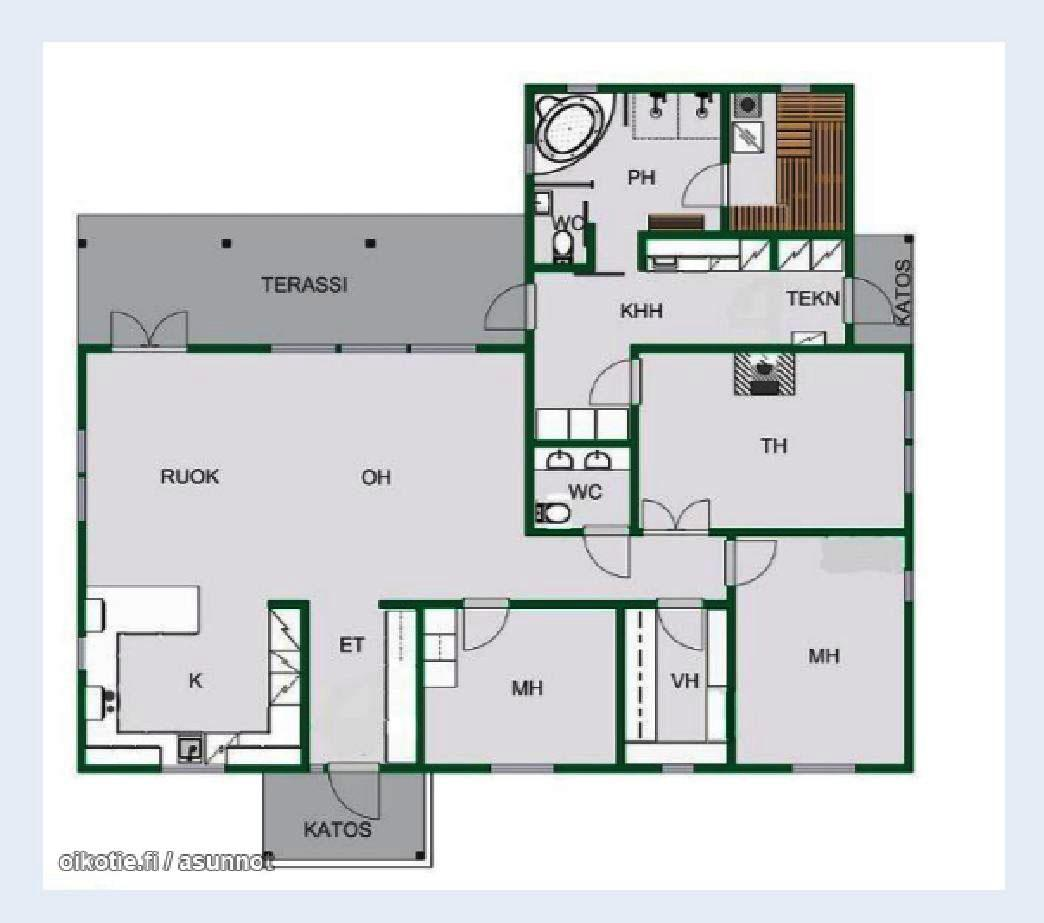bathroom: (534, 89, 718, 178), (533, 447, 630, 530), (535, 182, 586, 266)
door: (324, 763, 383, 823), (580, 525, 638, 584), (480, 281, 540, 336), (840, 276, 896, 330), (589, 356, 645, 410), (656, 597, 708, 653), (460, 597, 508, 653), (721, 542, 779, 588), (679, 159, 733, 208), (147, 307, 196, 358), (106, 306, 150, 357), (672, 501, 716, 541), (638, 497, 672, 539)
perimeter: (74, 83, 918, 772)
window: (481, 759, 563, 779), (405, 339, 482, 360), (335, 338, 413, 358), (899, 437, 923, 499), (785, 759, 862, 778), (154, 761, 232, 778), (70, 424, 92, 480), (261, 342, 342, 357), (901, 380, 919, 447), (73, 470, 92, 532), (656, 757, 702, 781), (71, 629, 92, 678), (898, 561, 920, 607)
